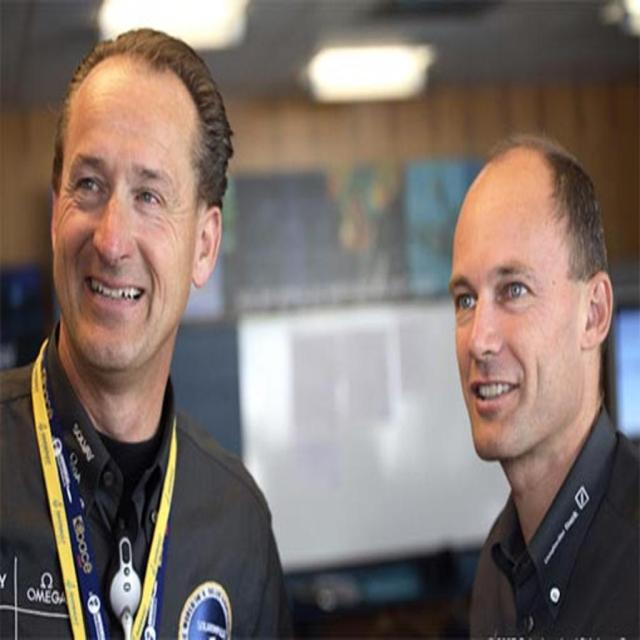Face: (43, 58, 197, 394), (433, 156, 577, 487)
